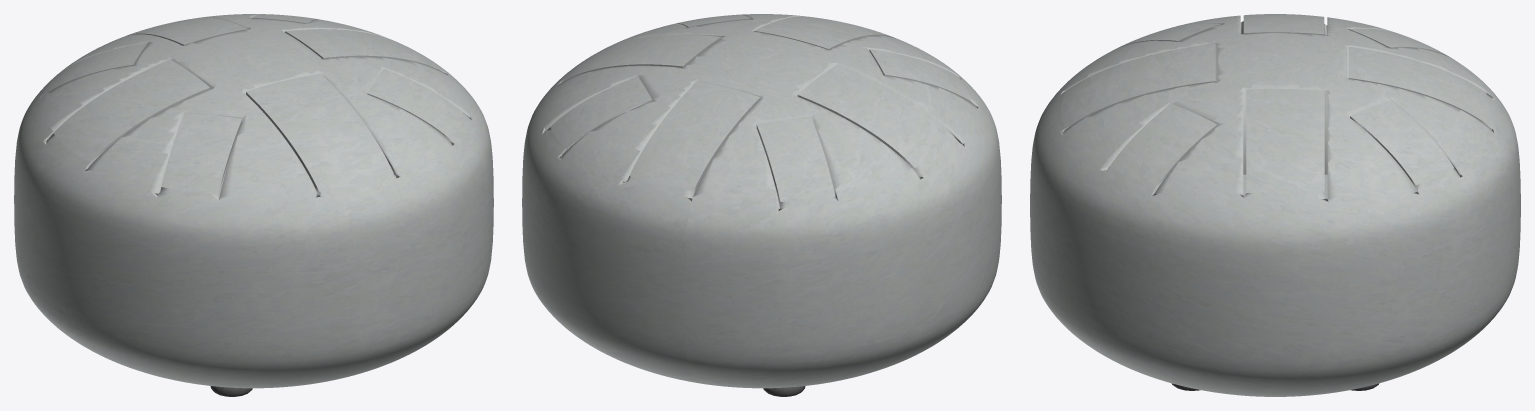
The model's file is TankDrumJDT.glb.
The picture shows the model from 3 angles, left to right: view 1: azimuth 30°, elevation 25°; view 2: azimuth 150°, elevation 25°; view 3: azimuth 270°, elevation 25°; orthographic projection. The views are drawn at different scales.
Parts seen in each view (by area): view 1: TankDrum, Key_D, Key_F, Key_C1, Key_A, Key_C, Key_E, Key_H; view 2: TankDrum, Key_E, Key_F, Key_H, Key_C, Key_G, Key_D, Key_C1; view 3: TankDrum, Key_C, Key_D, Key_E, Key_A, Key_G, Key_F, Key_H, Key_C1.
Part boxes in pixels (box(x1,y1,x2,y2)): TankDrum: box(14, 14, 493, 396); Key_D: box(246, 73, 393, 191); Key_F: box(53, 60, 209, 162); Key_C1: box(161, 113, 241, 194); Key_A: box(367, 69, 462, 138); Key_C: box(285, 29, 442, 70); Key_E: box(129, 17, 246, 44); Key_H: box(42, 43, 147, 95); TankDrum: box(522, 14, 1001, 396); Key_E: box(629, 81, 760, 190); Key_F: box(798, 65, 956, 167); Key_H: box(757, 117, 835, 201); Key_C: box(567, 34, 720, 78); Key_G: box(550, 76, 651, 148); Key_D: box(754, 16, 890, 48); Key_C1: box(869, 49, 970, 101); TankDrum: box(1030, 15, 1520, 396); Key_C: box(1246, 89, 1324, 193); Key_D: box(1061, 44, 1215, 127); Key_E: box(1348, 46, 1489, 123); Key_A: box(1109, 103, 1216, 185); Key_G: box(1350, 100, 1453, 184); Key_F: box(1243, 14, 1324, 34); Key_H: box(1349, 28, 1447, 55); Key_C1: box(1120, 23, 1220, 46).
Size of the model in its own units: 1.98 by 1.31 by 1.98.
2 materials, 1 textured.
